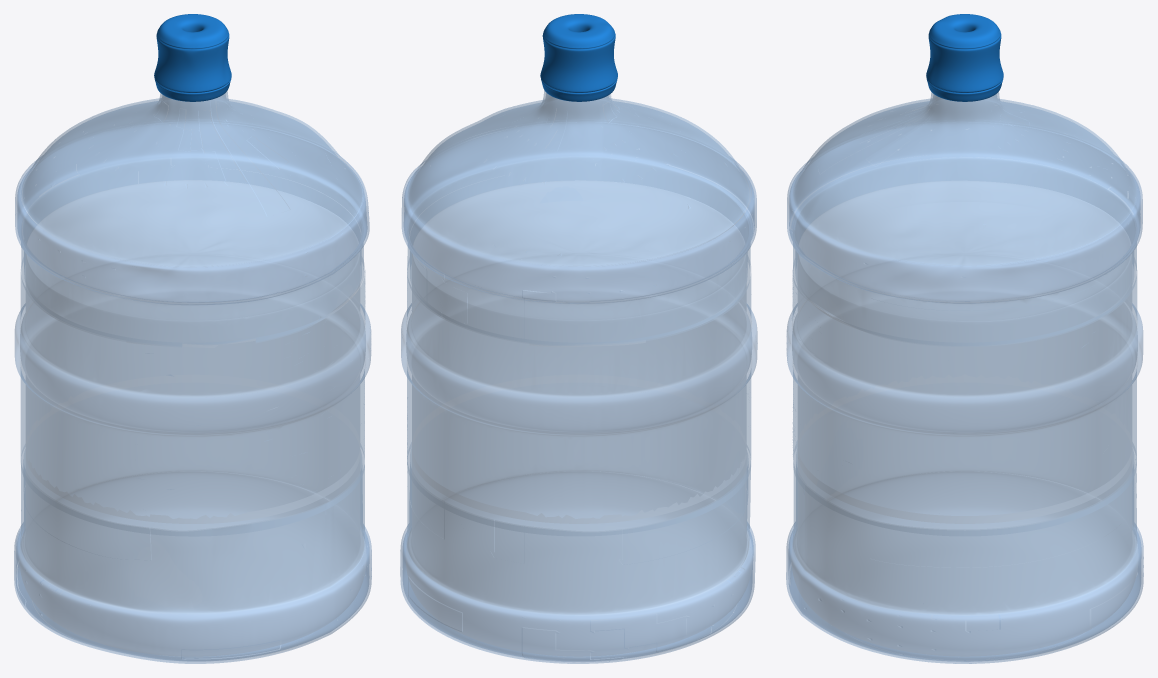
The model's file is bidon.glb.
The picture shows the model from 3 angles, left to right: view 1: azimuth 30°, elevation 25°; view 2: azimuth 150°, elevation 25°; view 3: azimuth 270°, elevation 25°; orthographic projection.
Visible parts, largest first — view 1: Agua_patch, Circle_0, Bidon_patch, Circle_1, Circle.003_0; view 2: Agua_patch, Circle_0, Bidon_patch, Circle_1, Circle.003_0; view 3: Agua_patch, Circle_0, Bidon_patch, Circle_1, Circle.003_0.
Part boxes in pixels (x1,y1,x2,y2): Agua_patch: (19, 180, 366, 656); Circle_0: (20, 91, 365, 663); Bidon_patch: (15, 262, 371, 536); Circle_1: (14, 120, 371, 663); Circle.003_0: (154, 14, 231, 101); Agua_patch: (406, 180, 752, 656); Circle_0: (406, 90, 750, 663); Bidon_patch: (401, 263, 757, 535); Circle_1: (400, 122, 756, 663); Circle.003_0: (540, 14, 617, 101); Agua_patch: (791, 181, 1138, 656); Circle_0: (792, 92, 1137, 663); Bidon_patch: (786, 263, 1142, 535); Circle_1: (786, 122, 1143, 663); Circle.003_0: (926, 14, 1003, 101).
Size of the model in its own units: 7.36 by 13.1 by 7.36.
